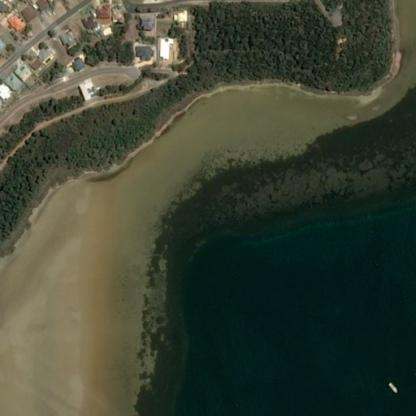ship: (371, 381, 380, 393)
